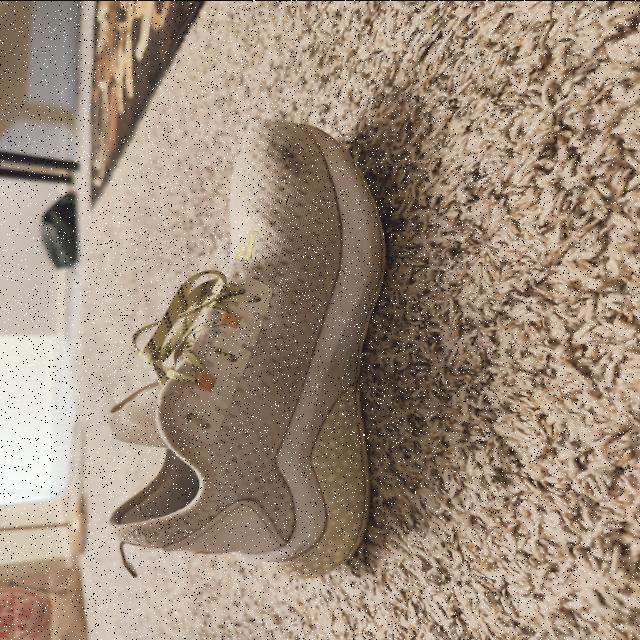white shoes: (120, 120, 370, 570)
